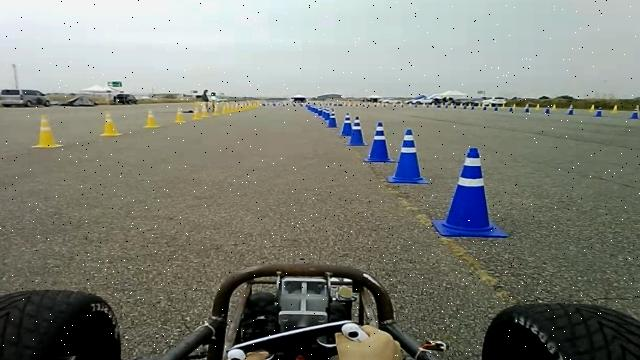blue cone: (432, 147, 508, 238), (386, 128, 431, 184), (364, 121, 396, 163), (347, 115, 368, 146), (339, 111, 354, 137), (327, 108, 338, 128), (566, 96, 574, 115), (631, 104, 639, 119), (594, 109, 603, 117)
yellow cone: (31, 114, 64, 148), (100, 111, 122, 137), (144, 109, 160, 128), (174, 107, 187, 123), (192, 106, 203, 120), (201, 108, 210, 118), (610, 104, 619, 113), (212, 107, 221, 116), (589, 103, 596, 112)
